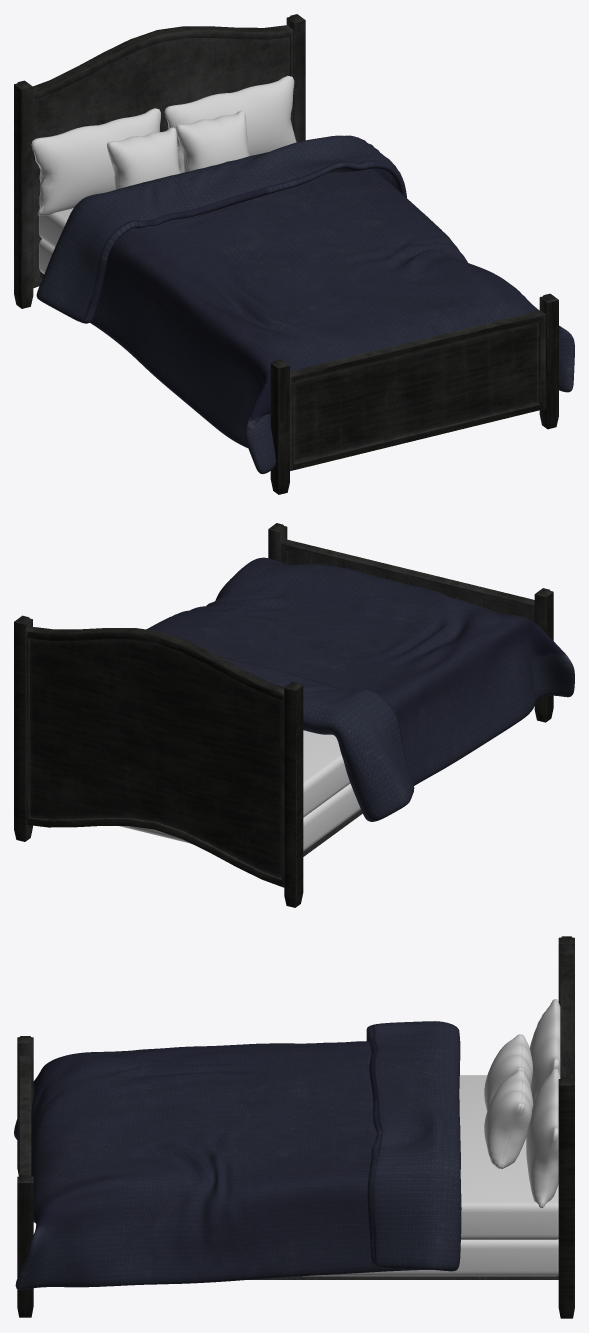
File: full_bed.fbx
The picture shows the model from 3 angles, top to bottom: view 1: azimuth 30°, elevation 25°; view 2: azimuth 150°, elevation 25°; view 3: azimuth 270°, elevation 25°; orthographic projection. The views are drawn at different scales.
Visible parts, largest first — view 1: Cube.062; view 2: Cube.062; view 3: Cube.062.
Boxes of the visible parts, left/top/right/bottom form: Cube.062: left=14, top=14, right=574, bottom=494; Cube.062: left=14, top=523, right=574, bottom=907; Cube.062: left=14, top=936, right=574, bottom=1318.
Size of the model in its own units: 226 by 141 by 281.
